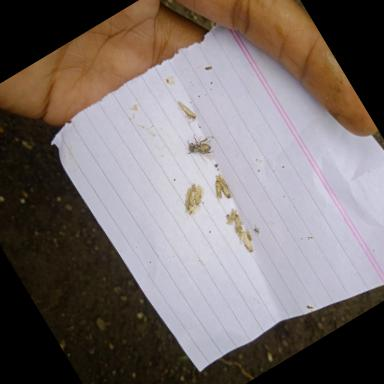pbw: (228, 214, 254, 246), (175, 96, 201, 126), (214, 172, 237, 200), (181, 184, 204, 208), (208, 180, 230, 204), (188, 184, 210, 208), (238, 230, 258, 255), (227, 207, 242, 223)
